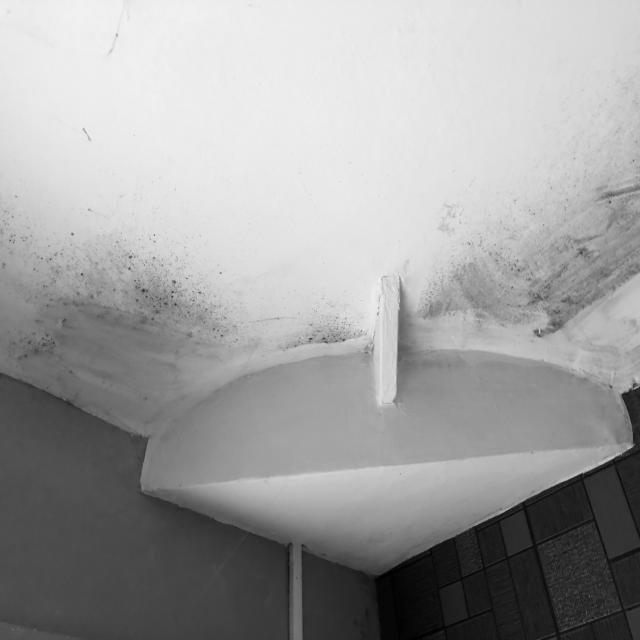stain marks: (417, 145, 640, 350), (0, 192, 205, 378), (206, 285, 380, 371), (31, 376, 200, 439), (546, 56, 640, 146), (207, 228, 252, 284)
